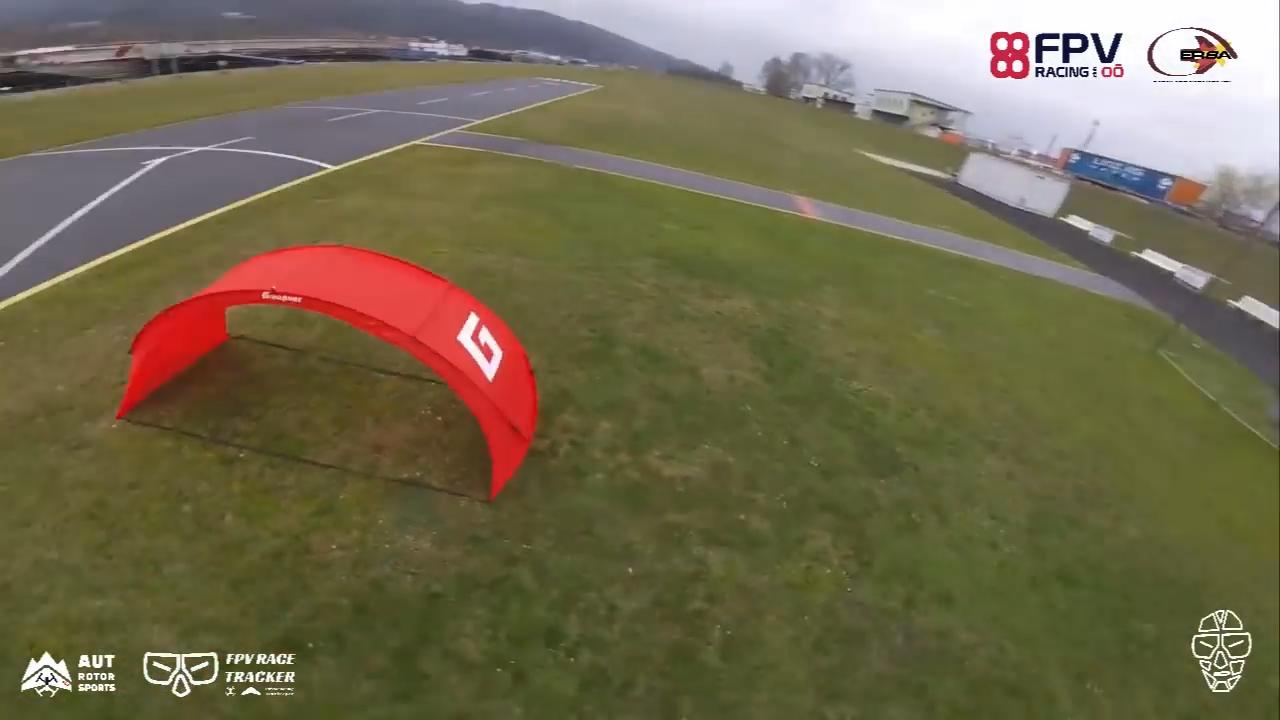gate: (109, 239, 540, 505)
